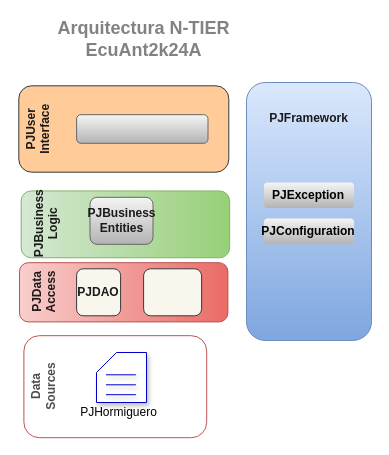
This 389x455 diagram has some shape labels left out. Here are the shapes that lost their labels. From the top down, the centre of each, then its label:
(142,128): UI Component
(172,292): PJDTO
